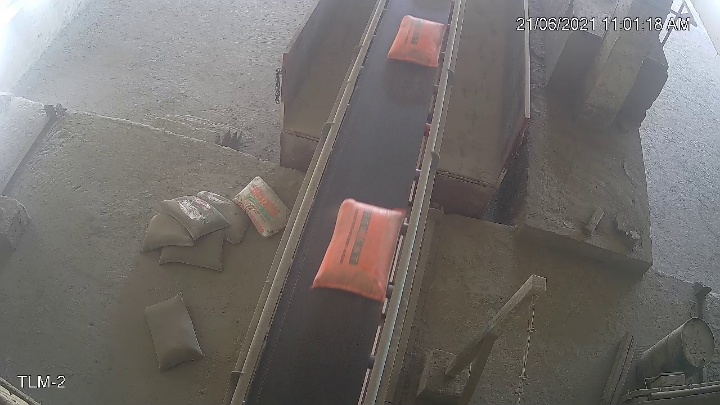bag: (319, 200, 399, 288), (386, 12, 446, 70)
